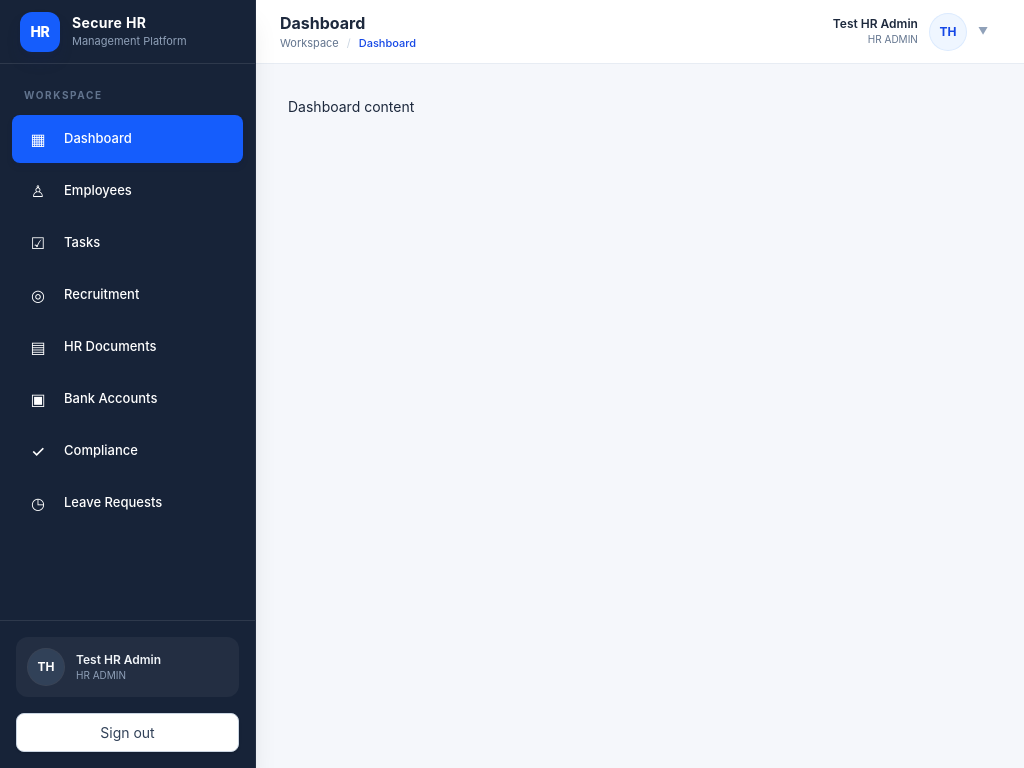
AppLayout › logs out after confirmation from the user menu
The image size is (1024, 768).
# Ouvrir le menu utilisateur
Click the button with aria-label "Open user menu" at (910, 32), box [821,8,1000,56]
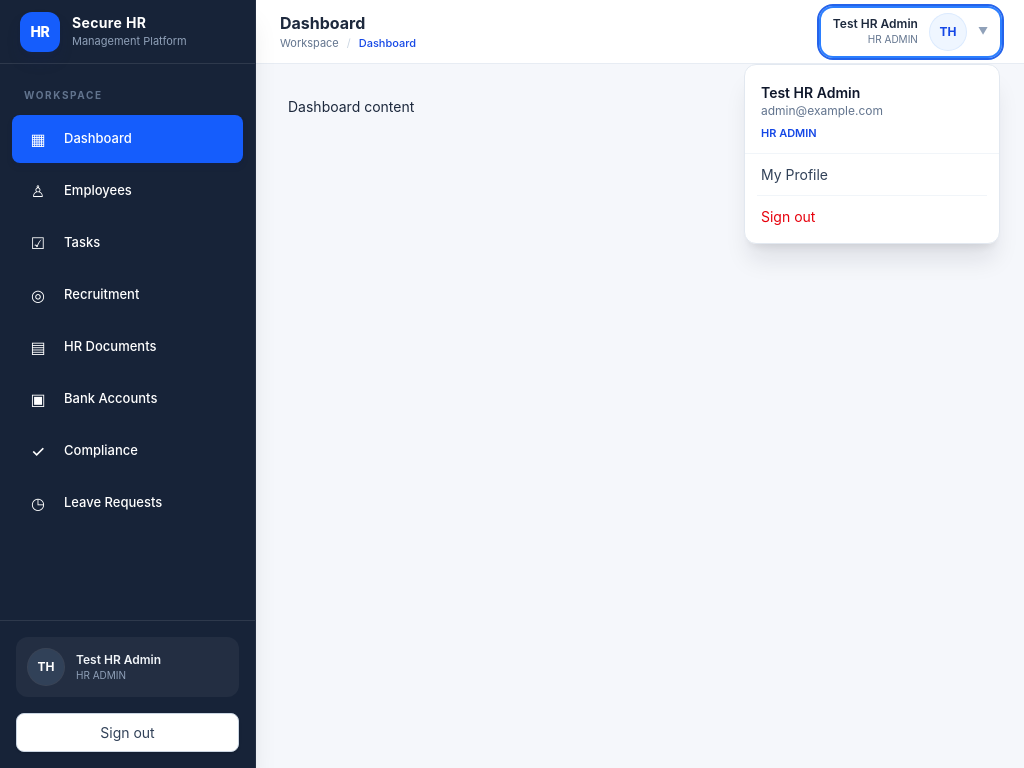
# Demander la déconnexion
Click the menu item "Sign out" at (872, 216), box [745,196,999,237]
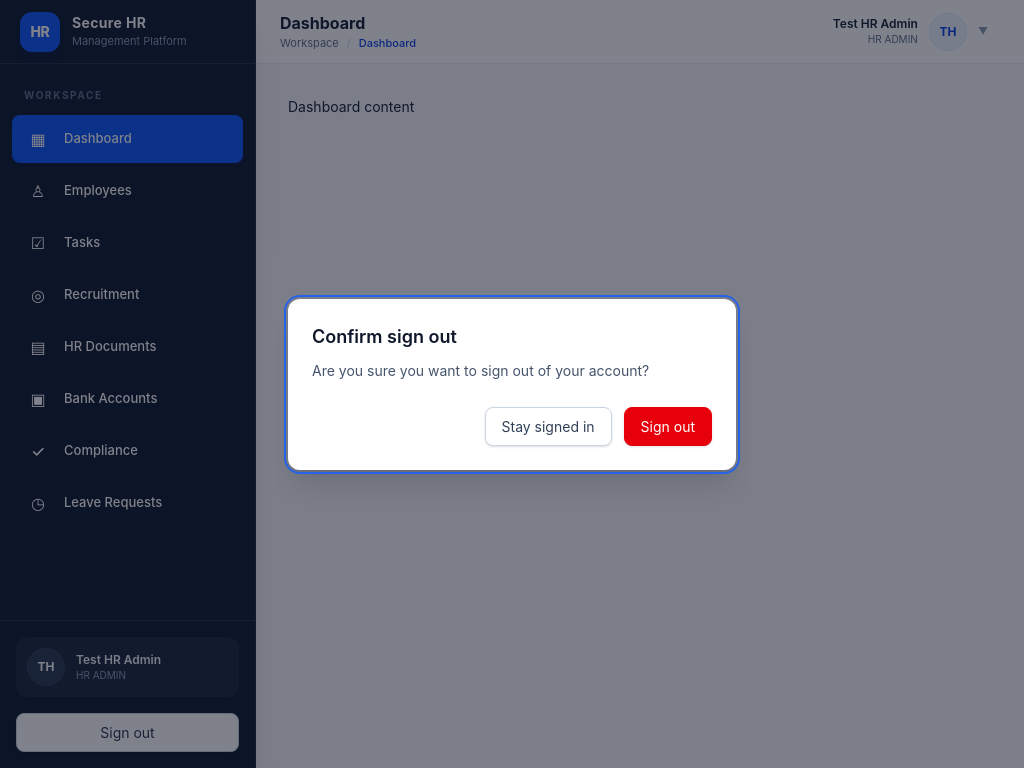
Now the dialog is shown, box [288,298,736,470]
Now the text "Are you sure you want to sign out of your account?" is shown, box [312,362,649,378]
# Confirmer dans la boîte de dialogue uniquement
Click the button "Sign out" at (668, 426), box [624,406,712,446]
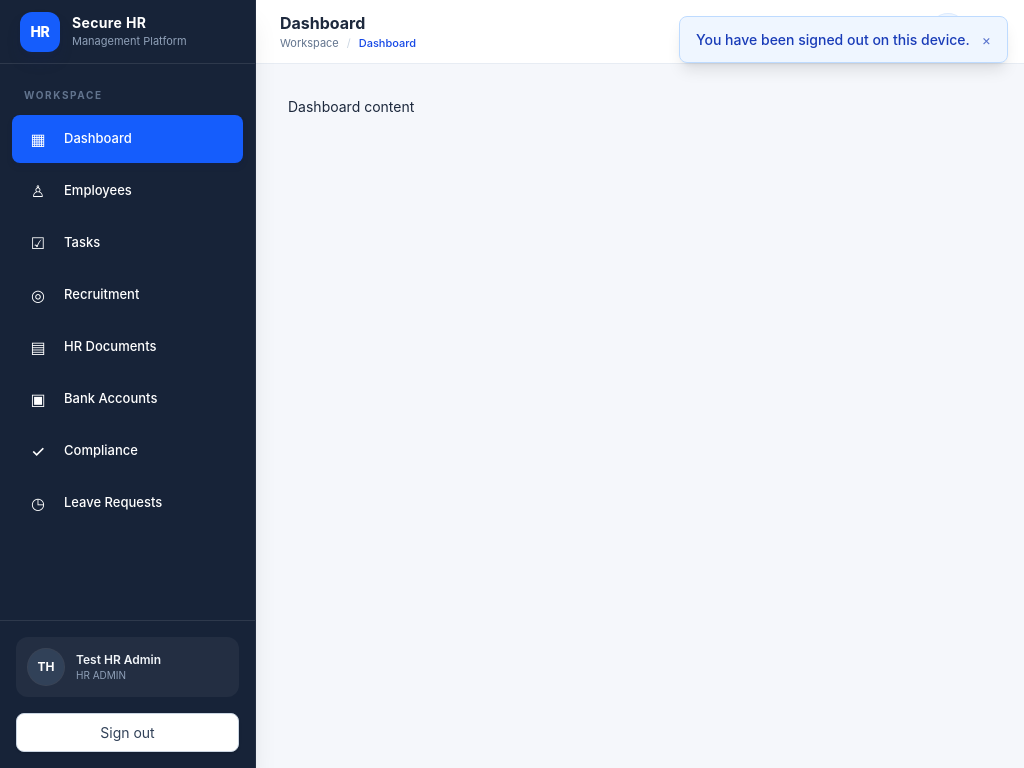
Now the message shows "You have been signed out on this device.", box [696,30,970,48]
Now the dialog is gone
